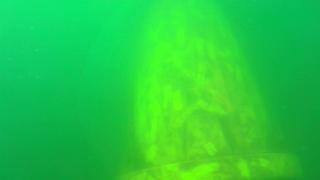pipe: (116, 1, 302, 179)
